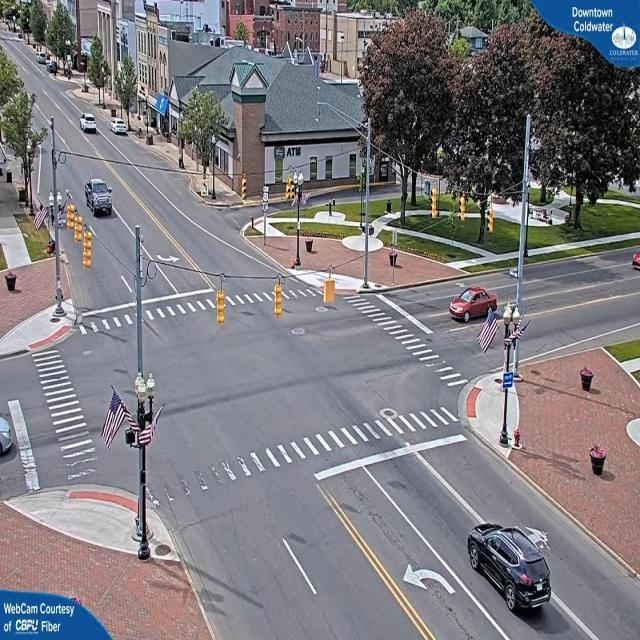car: (469, 526, 554, 616), (449, 287, 493, 323), (85, 179, 114, 215), (80, 115, 100, 134), (111, 120, 130, 137), (632, 249, 638, 273)
